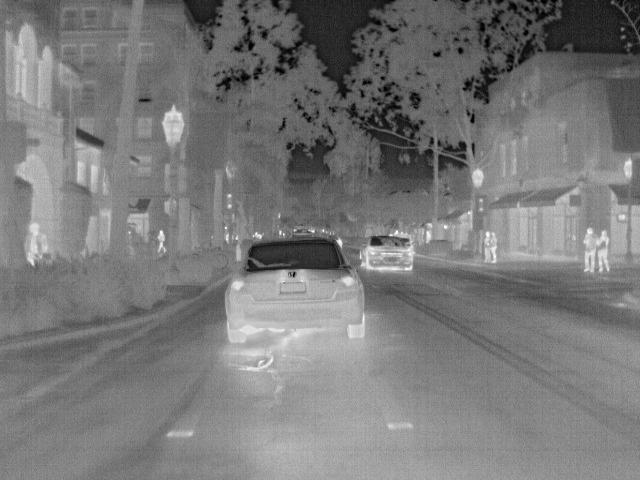car: (226, 235, 367, 344), (362, 234, 413, 272)
person: (23, 223, 49, 265), (582, 228, 598, 274), (595, 229, 610, 273), (487, 230, 499, 262), (156, 228, 170, 253)
